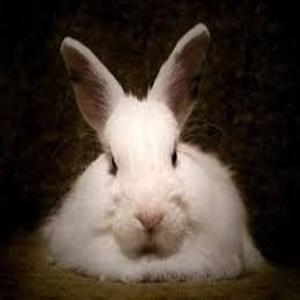rabbit: (41, 22, 265, 284)
